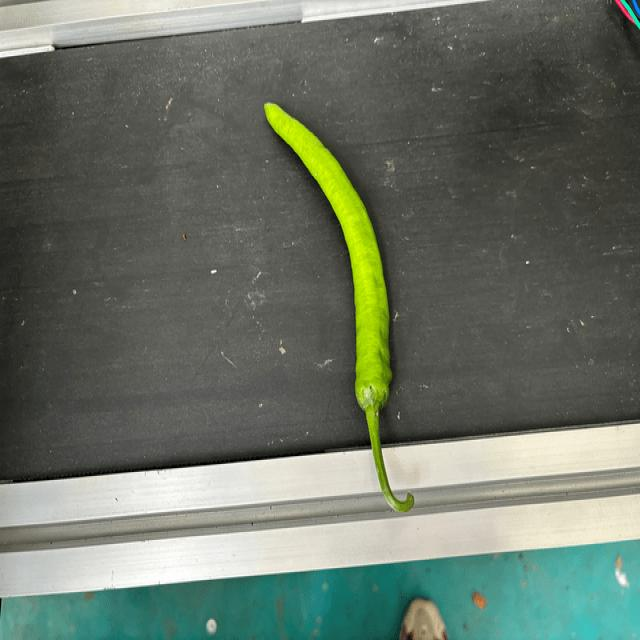chili: (261, 98, 395, 414)
